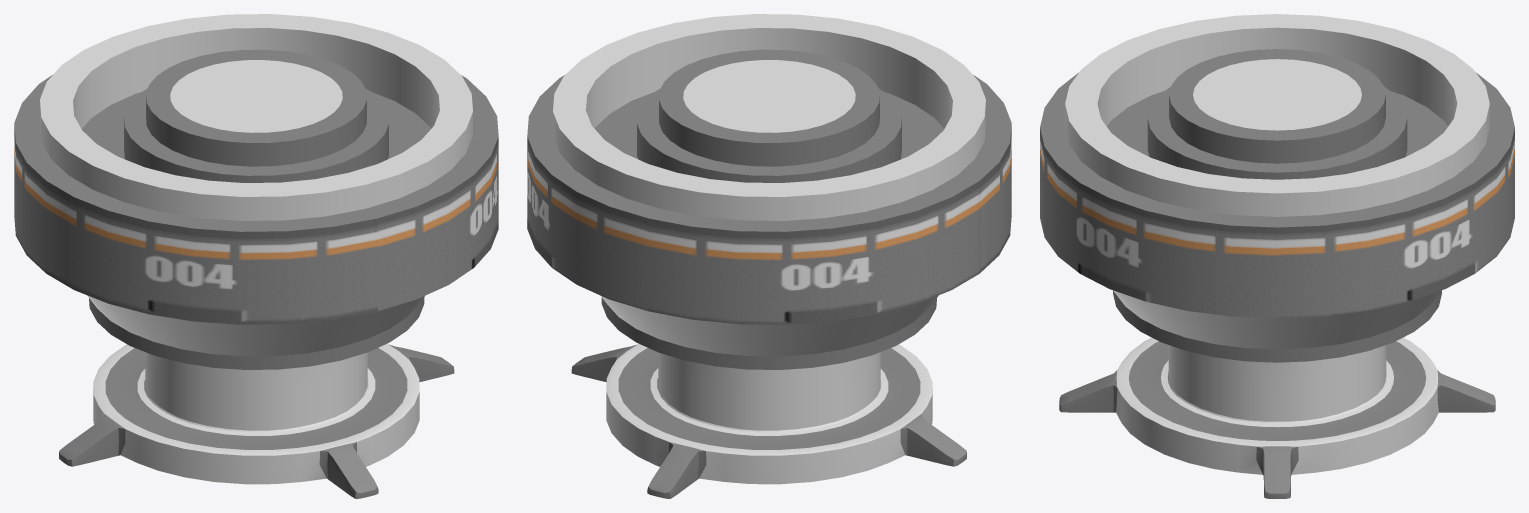
Rendered from PowerUpNode_Static.fbx.
3 renders of one model, left to right at view 1: azimuth 30°, elevation 25°; view 2: azimuth 150°, elevation 25°; view 3: azimuth 270°, elevation 25°, orthographic. The views are drawn at different scales.
Visible parts, largest first — view 1: Cylinder.004; view 2: Cylinder.004; view 3: Cylinder.004.
Boxes of the visible parts, x1,y1,x2,y2 form: Cylinder.004: [14, 14, 498, 498]; Cylinder.004: [527, 14, 1011, 498]; Cylinder.004: [1040, 14, 1514, 498].
Bounding box in the file's own units: 388 × 388 × 281.
